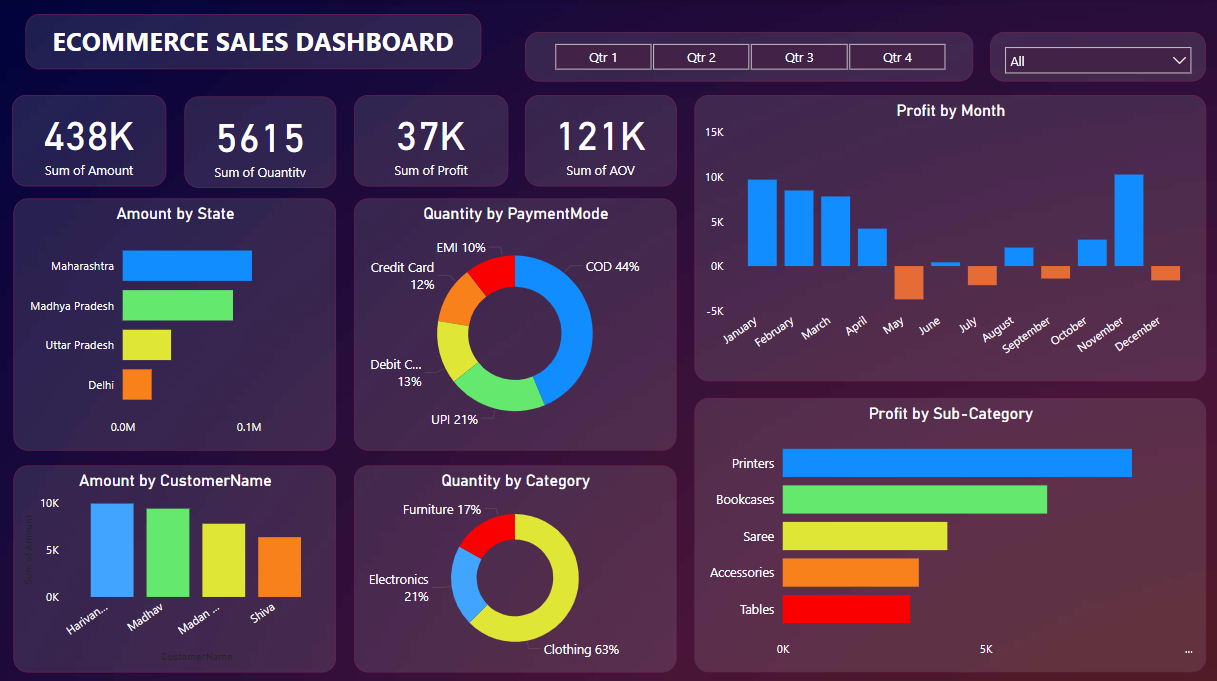

Layout of this report page (visuals, bound fields, positions):
{"tool":"powerbi","page":{"name":"Page 1","canvas":[1280,720],"ordinal":0},"visuals":[{"type":"columnChart","title":"Profit by Month","fields":{"Y":["Details.Profit"],"Category":["Orders.Order Date.Variation.Date Hierarchy.Month"]},"box":[729.3,100.8,537.1,300.8],"z":0},{"type":"barChart","title":"Profit by Sub-Category","fields":{"Category":["Details.Sub-Category"],"Y":["Details.Profit"]},"box":[729.3,419,537.1,288.2],"z":1000},{"type":"donutChart","title":"Quantity by Category","fields":{"Category":["Details.Category"],"Y":["Details.Quantity"]},"box":[371.7,489.9,338.6,217.4],"z":2000},{"type":"donutChart","title":"Quantity by PaymentMode","fields":{"Y":["Details.Quantity"],"Category":["Details.PaymentMode"]},"box":[371.7,209.5,338.6,264.6],"z":3000},{"type":"card","fields":{"Values":["Details.Amount"]},"box":[12.6,100.8,162.2,96.1],"z":4000},{"type":"card","fields":{"Values":["Details.Quantity"]},"box":[193.7,102.4,159.1,96.1],"z":5000},{"type":"card","fields":{"Values":["Details.Profit"]},"box":[371.7,100.8,162.2,96.1],"z":6000},{"type":"card","fields":{"Values":["Details.AOV"]},"box":[551.3,100.8,159.1,96.1],"z":7000},{"type":"barChart","title":"Amount by State","fields":{"Category":["Orders.State"],"Y":["Details.Amount"]},"box":[14.2,209.5,338.6,264.6],"z":8000},{"type":"columnChart","title":"Amount by CustomerName","fields":{"Y":["Details.Amount"],"Category":["Orders.CustomerName"]},"box":[14.2,489.9,338.6,217.4],"z":9000},{"type":"textbox","box":[26.8,15.8,478.8,58.3],"z":10000},{"type":"slicer","fields":{"Values":["Orders.Order Date.Variation.Date Hierarchy.Quarter"]},"box":[551.3,34.7,470.9,52],"z":11000},{"type":"slicer","fields":{"Values":["Orders.State"]},"box":[1039.6,34.7,226.8,52],"z":12000}]}

Visuals, with their boxes in screenshot pixels (x1, y1, x2, y2), scaled from the page's 1280x720 canvas onto the 1217x681 screenshot:
"Profit by Month" columnChart: l=693, t=95, r=1204, b=380
"Profit by Sub-Category" barChart: l=693, t=396, r=1204, b=669
"Quantity by Category" donutChart: l=353, t=463, r=675, b=669
"Quantity by PaymentMode" donutChart: l=353, t=198, r=675, b=448
card - Details.Amount: l=12, t=95, r=166, b=186
card - Details.Quantity: l=184, t=97, r=335, b=188
card - Details.Profit: l=353, t=95, r=508, b=186
card - Details.AOV: l=524, t=95, r=675, b=186
"Amount by State" barChart: l=14, t=198, r=335, b=448
"Amount by CustomerName" columnChart: l=14, t=463, r=335, b=669
textbox: l=25, t=15, r=481, b=70
slicer - Orders.Order Date.Variation.Date Hierarchy.Quarter: l=524, t=33, r=972, b=82
slicer - Orders.State: l=988, t=33, r=1204, b=82
